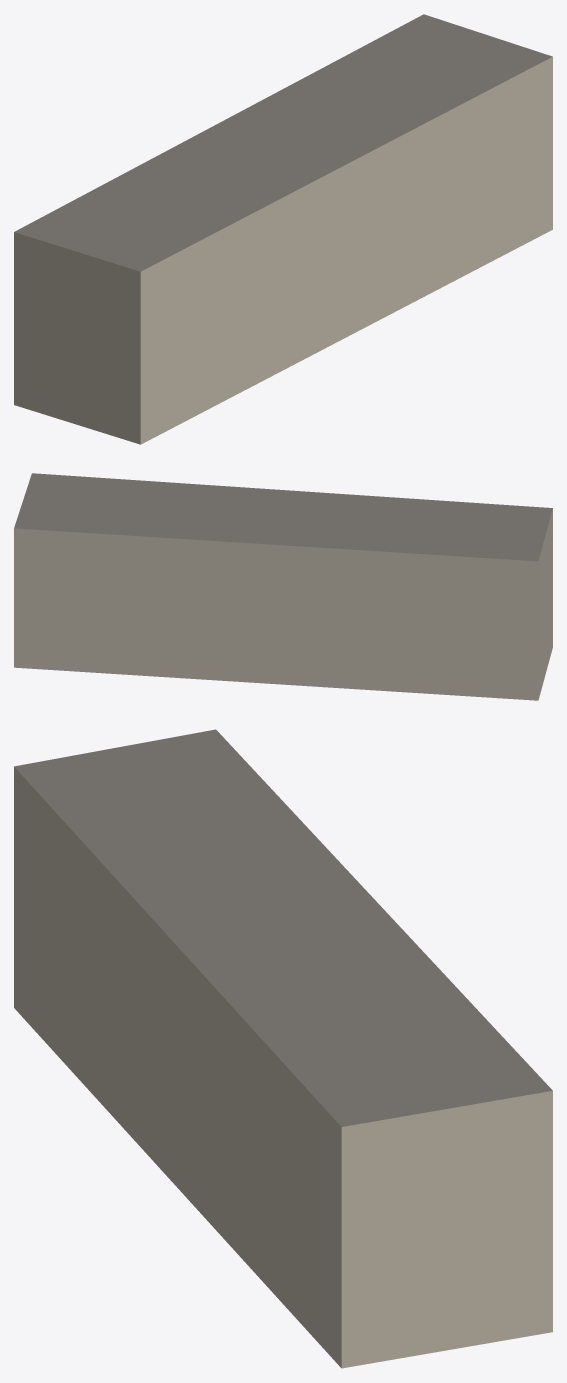
The picture shows the model from 3 angles, top to bottom: view 1: azimuth 30°, elevation 25°; view 2: azimuth 150°, elevation 25°; view 3: azimuth 270°, elevation 25°; orthographic projection. The views are drawn at different scales.
Parts seen in each view (by area): view 1: HP-w505661360; view 2: HP-w505661360; view 3: HP-w505661360.
Boxes of the visible parts, box(x1,y1,x2,y2) form: HP-w505661360: box(14, 14, 552, 444); HP-w505661360: box(14, 473, 552, 700); HP-w505661360: box(14, 729, 552, 1368).
Size of the model in its own units: 42.39 by 12 by 24.28.
